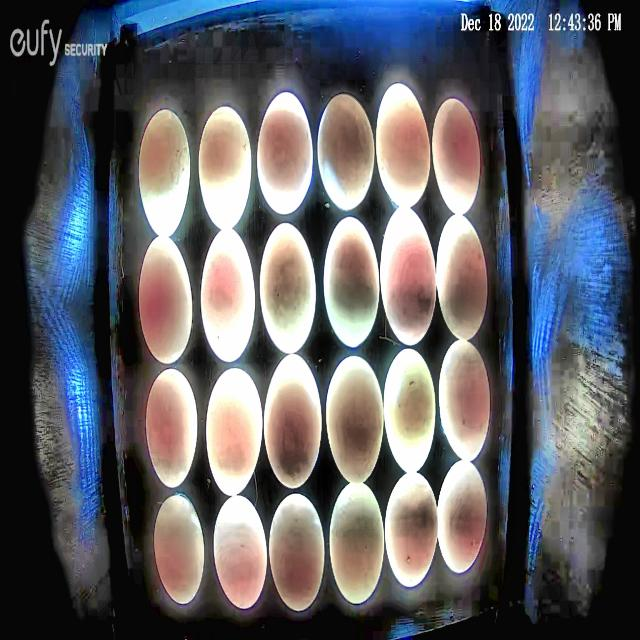UF: (379, 206, 437, 346), (204, 365, 264, 497), (323, 214, 381, 350), (259, 220, 317, 355), (264, 354, 322, 489), (326, 354, 385, 484), (200, 227, 256, 363), (375, 81, 432, 209), (256, 91, 314, 216), (139, 233, 193, 366), (138, 108, 192, 239), (198, 105, 253, 232), (383, 346, 437, 475), (330, 481, 386, 605), (317, 92, 375, 211), (268, 492, 325, 611), (436, 213, 488, 342), (438, 336, 490, 464), (146, 366, 199, 489), (384, 468, 438, 588), (213, 494, 268, 611), (437, 458, 488, 574), (432, 96, 481, 216), (153, 494, 205, 605)
